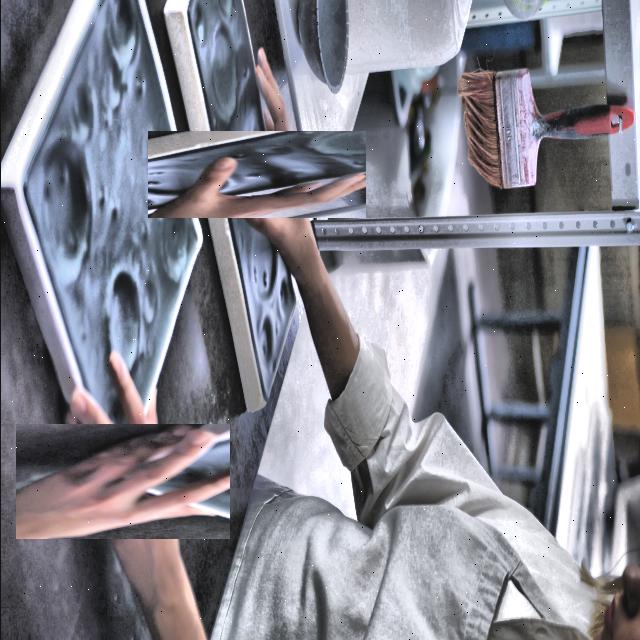not-gloved: (39, 398, 205, 564), (180, 97, 332, 250)
